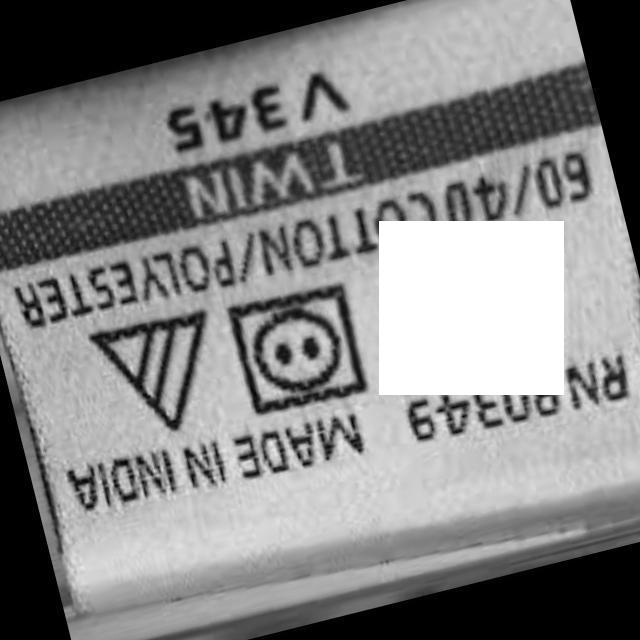non_chlorine_bleach: (77, 296, 236, 449)
tumble_dry_medium: (218, 271, 374, 426)
